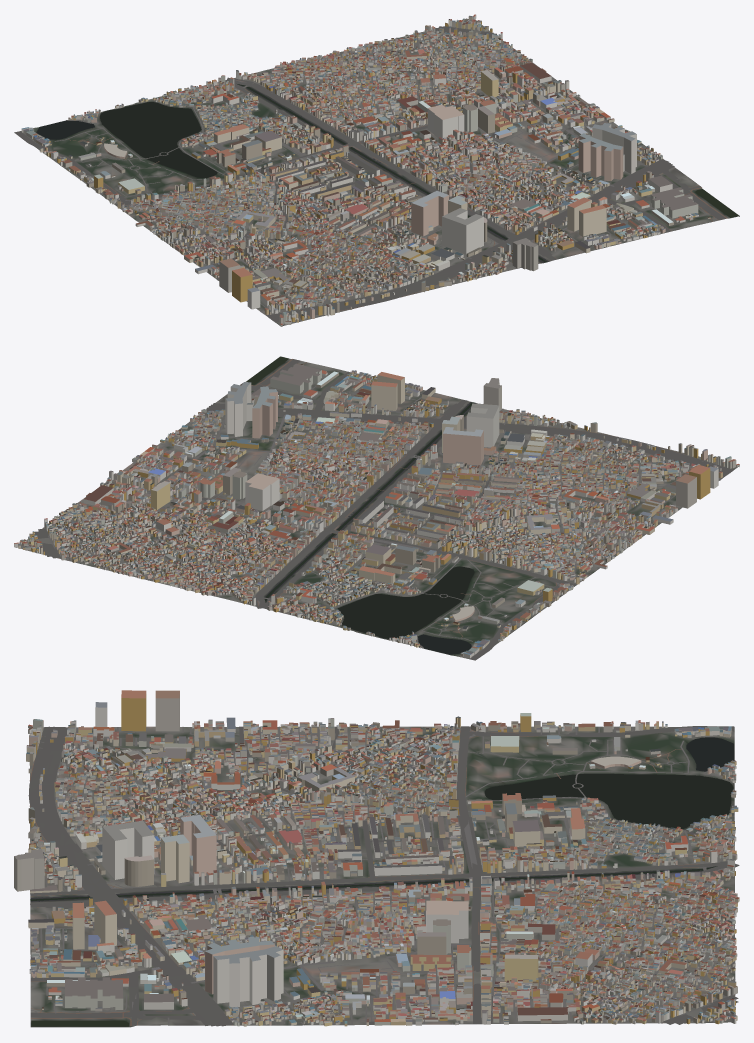
3 views of the same model, one above another, from view 1: azimuth 30°, elevation 25°; view 2: azimuth 150°, elevation 25°; view 3: azimuth 270°, elevation 25° (orthographic). The views are drawn at different scales.
Parts seen in each view (by area): view 1: buildings, ground, roads, water; view 2: buildings, ground, roads, water; view 3: buildings, ground, roads, water.
Boxes of the visible parts, <box> form: buildings: <box>21,14,710,326</box>; ground: <box>20,20,739,325</box>; roads: <box>14,20,727,323</box>; water: <box>36,84,738,262</box>; buildings: <box>14,363,739,658</box>; ground: <box>15,358,738,658</box>; roads: <box>21,359,733,660</box>; water: <box>246,356,476,654</box>; buildings: <box>14,690,739,1026</box>; ground: <box>30,726,735,1027</box>; roads: <box>28,726,739,1026</box>; water: <box>30,737,733,1026</box>.
Size of the model in its own units: 1432 by 102 by 1444.
